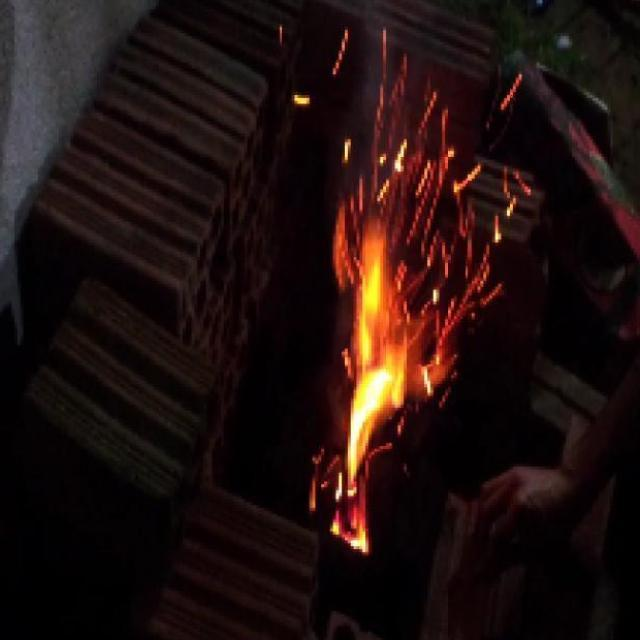smoke: (322, 200, 454, 557)
